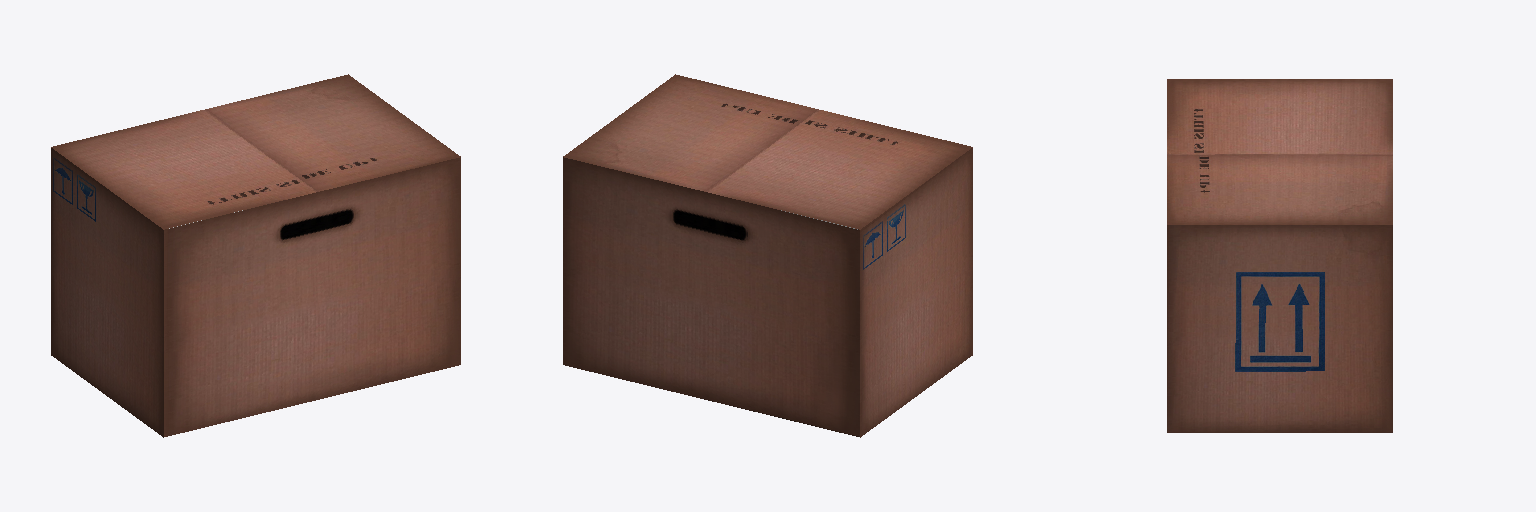
3 renders of one model, left to right at view 1: azimuth 30°, elevation 25°; view 2: azimuth 150°, elevation 25°; view 3: azimuth 270°, elevation 25°, orthographic.
Parts seen in each view (by area): view 1: box_box; view 2: box_box; view 3: box_box.
Part boxes in pixels (x1,y1,x2,y2): box_box: (51,74,460,437); box_box: (563,74,972,437); box_box: (1167,79,1392,432).
Size of the model in its own units: 0.6042 by 0.403 by 0.397.
1 materials, 1 textured.